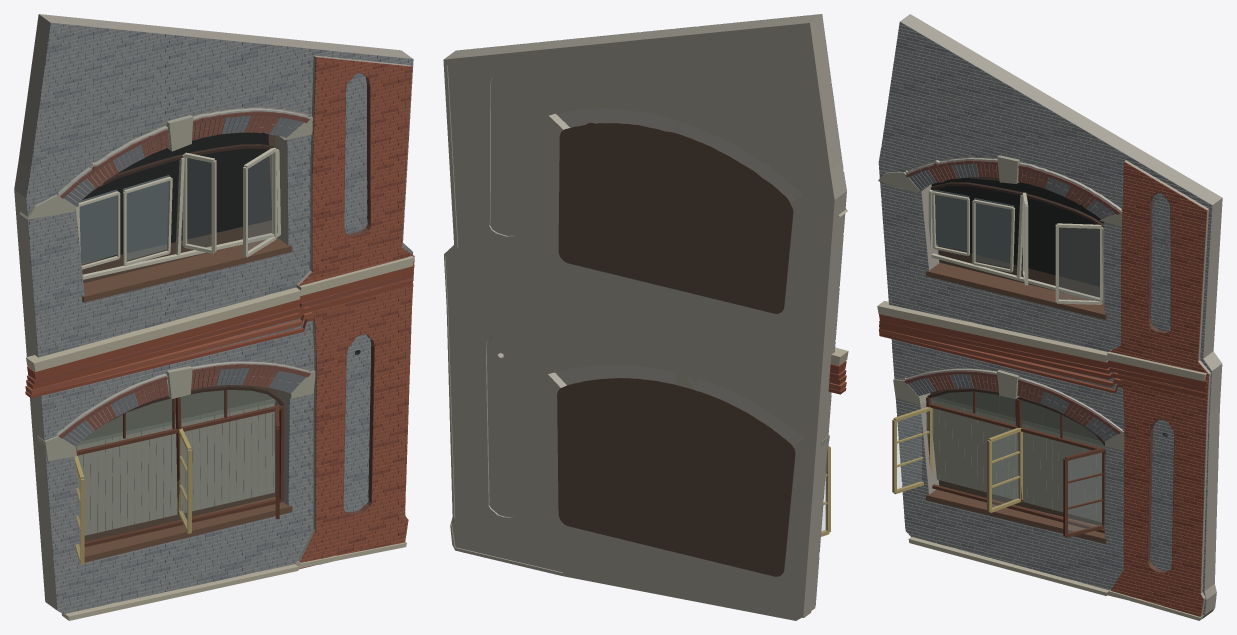
File: huangpu-sijing-28-brick-arched-window-bay-lod.glb
3 renders of one model, left to right at view 1: azimuth 30°, elevation 25°; view 2: azimuth 150°, elevation 25°; view 3: azimuth 330°, elevation 25°, orthographic. The views are drawn at different scales.
Parts seen in each view (by area): view 1: 泗泾路28号住宅东端双层砖券窗与凹槽壁柱; view 2: 泗泾路28号住宅东端双层砖券窗与凹槽壁柱; view 3: 泗泾路28号住宅东端双层砖券窗与凹槽壁柱.
Part boxes in pixels (x1=…): 泗泾路28号住宅东端双层砖券窗与凹槽壁柱: x1=14, y1=14, x2=414, y2=620; 泗泾路28号住宅东端双层砖券窗与凹槽壁柱: x1=443, y1=14, x2=848, y2=620; 泗泾路28号住宅东端双层砖券窗与凹槽壁柱: x1=877, y1=14, x2=1222, y2=620.
Bounding box in the file's own units: 5.05 × 7.57 × 0.7535.
Materials: 26 (1 with a texture image).
